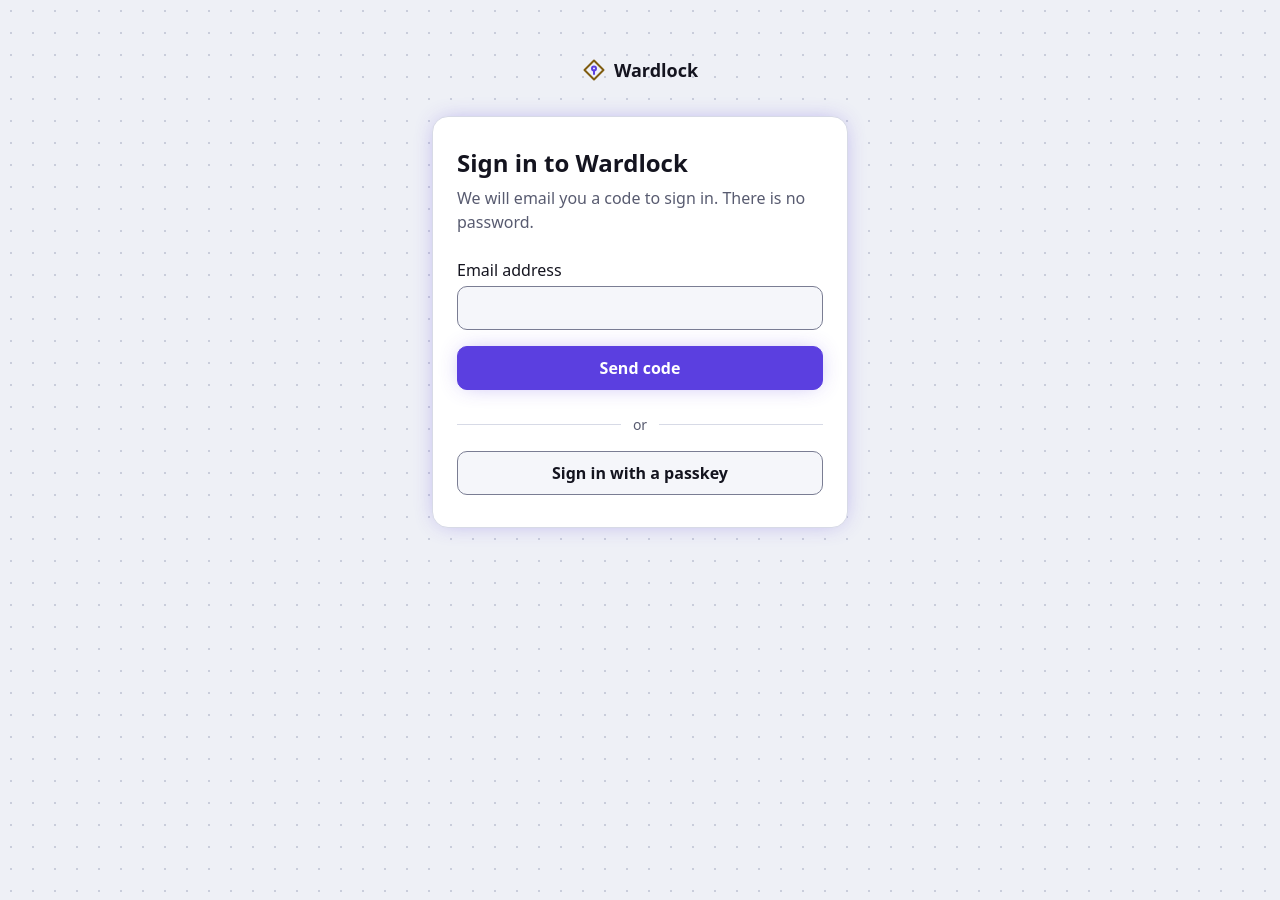
Test: passkey sign-in › signs in and returns to the requested page
Click the button "Sign in with a passkey" at x=640, y=473, box [457,451,823,495]
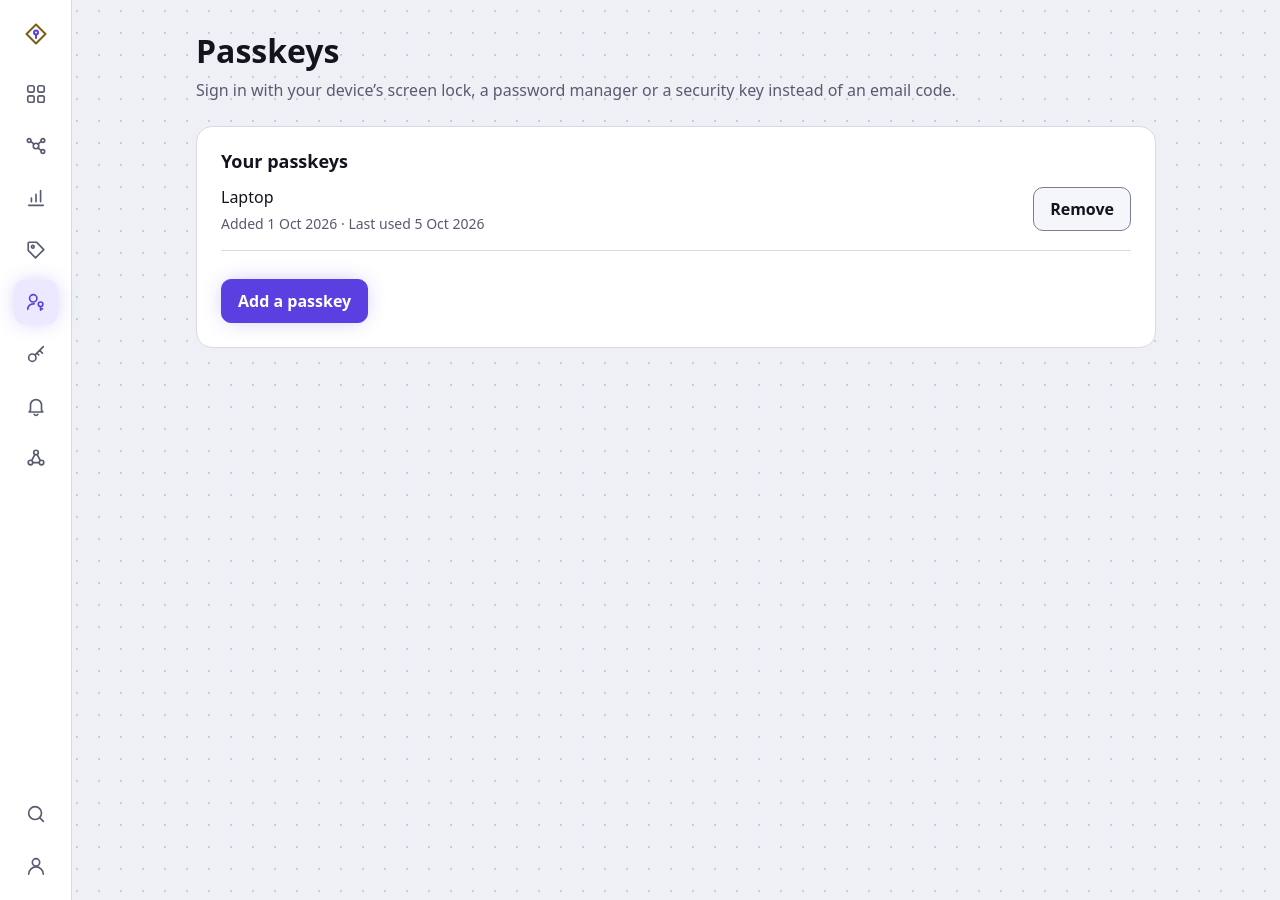
Expected: the heading "Passkeys" is shown, [196,29,340,72]
